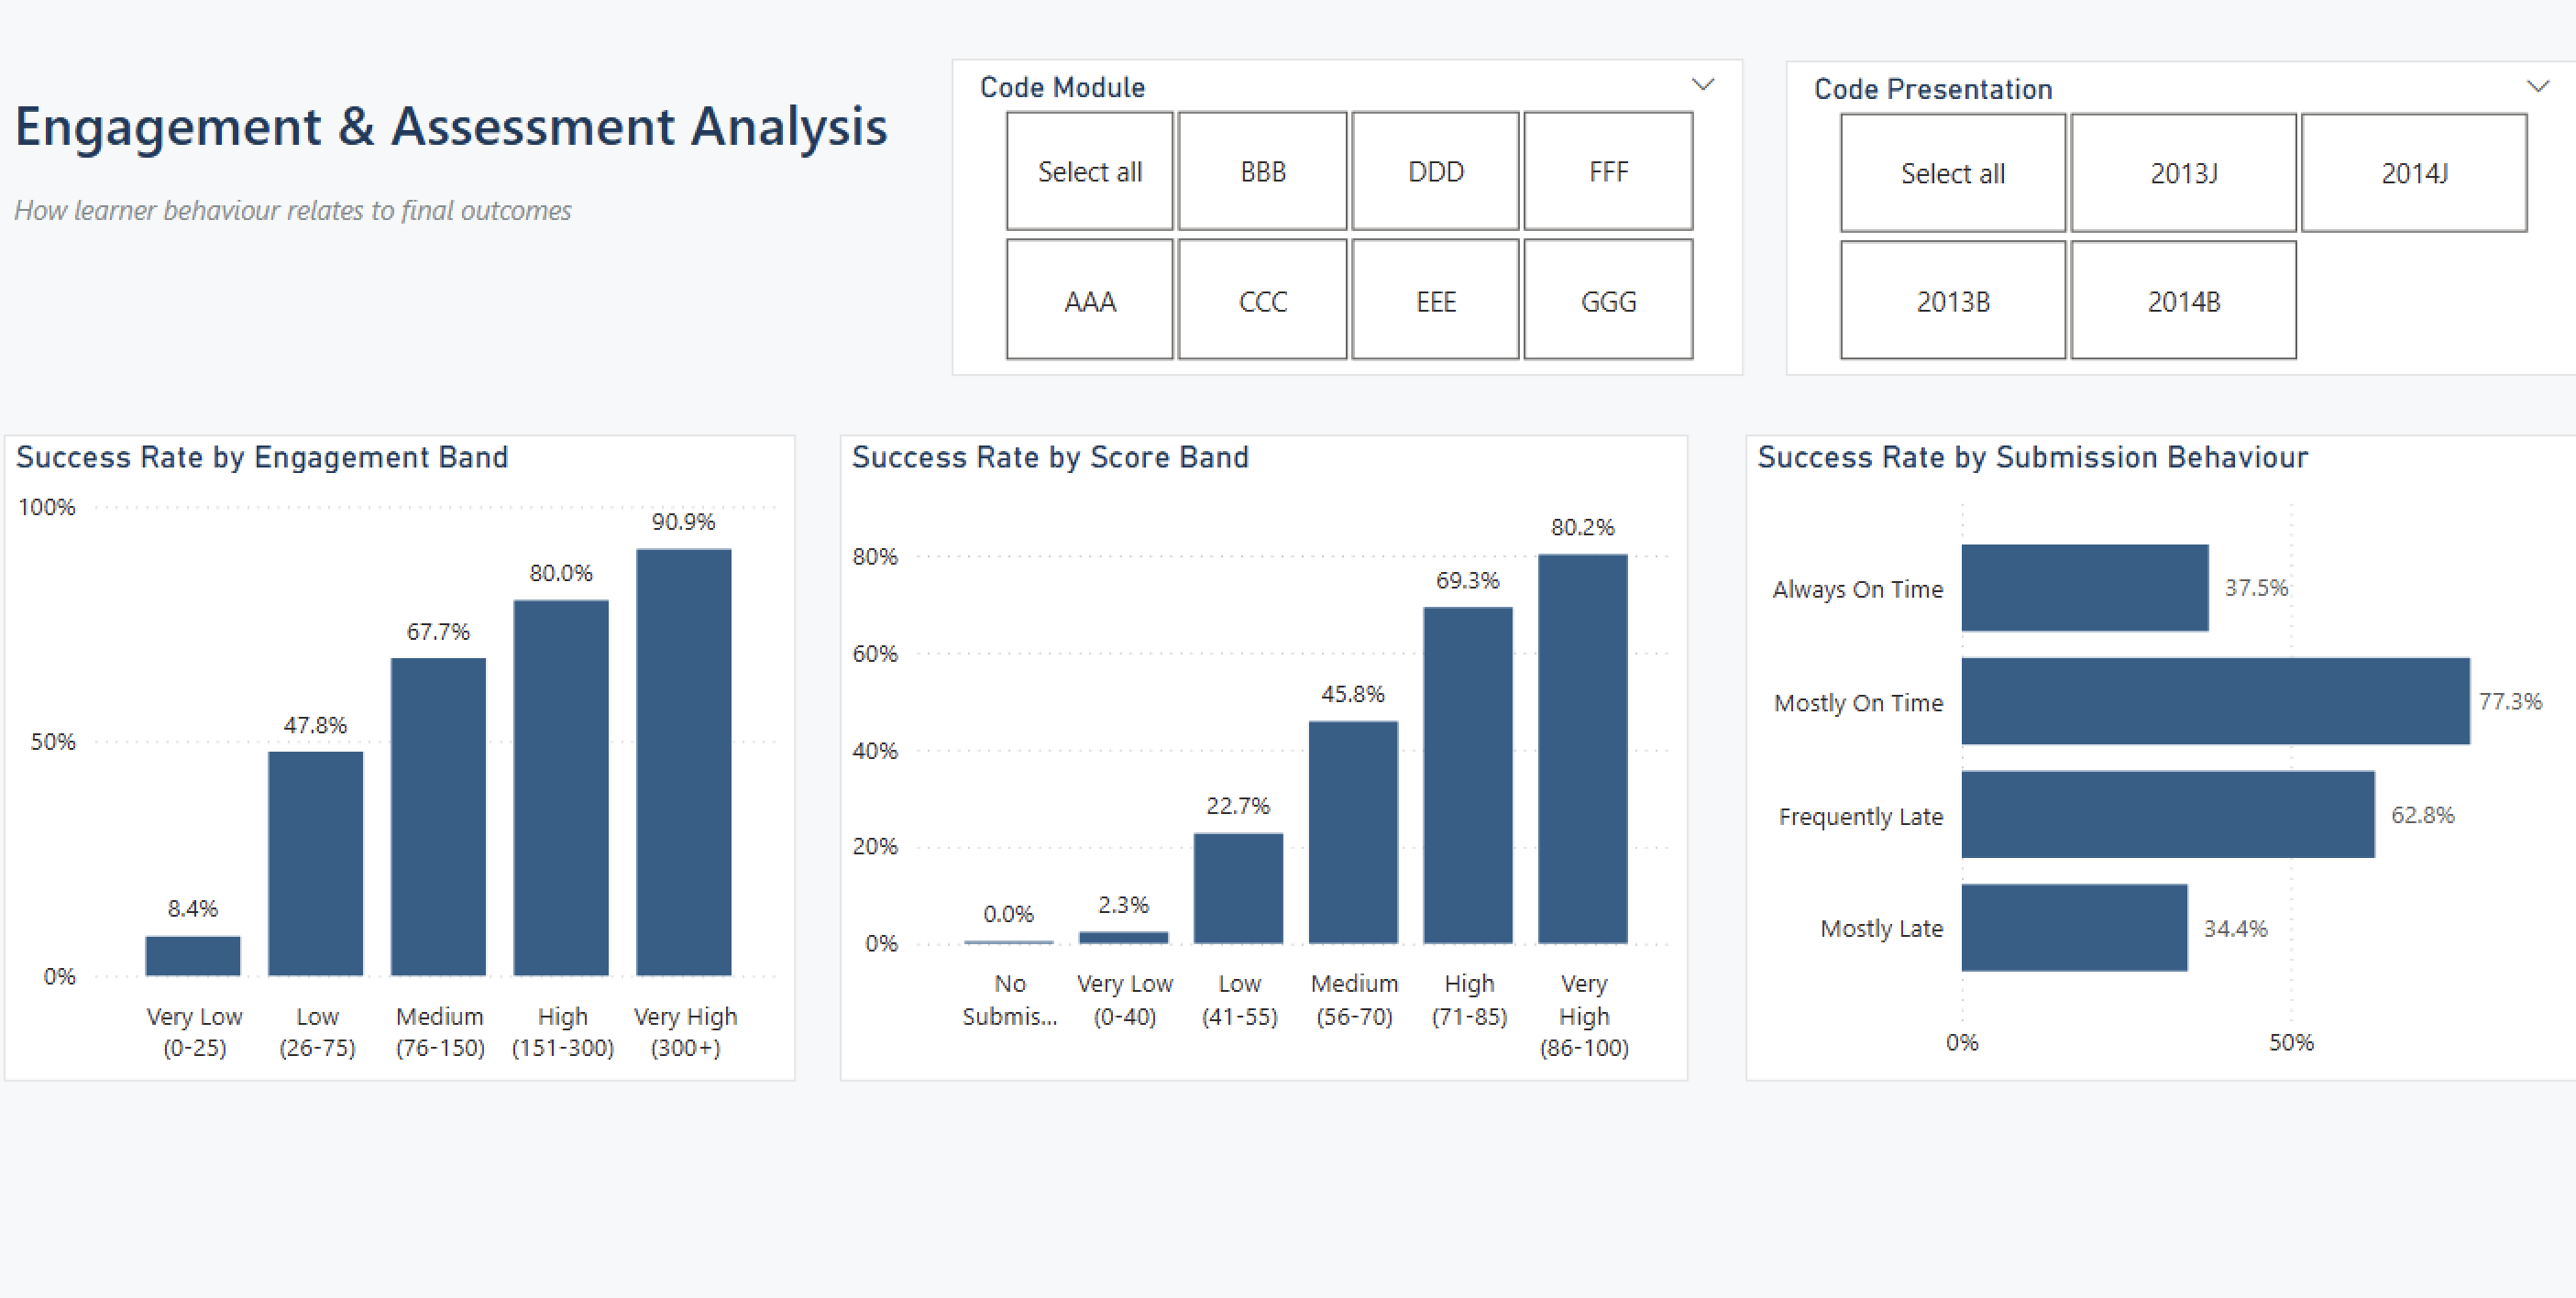

The dashboard page shown, as its layout file describes it:
{"tool":"powerbi","page":{"name":"Engagement & Assessment","canvas":[1280,720],"ordinal":1},"visuals":[{"type":"textbox","box":[6.3,56.2,467,68.9],"z":0},{"type":"textbox","box":[6.3,107.9,331.9,51.7],"z":1000},{"type":"clusteredColumnChart","title":"Success Rate by Engagement Band","fields":{"Category":["pbi_engagement_assessment.engagement_band"],"Y":["pbi_engagement_assessment.Success Rate"]},"box":[6.2,233.1,391.9,319.7],"z":2000},{"type":"clusteredColumnChart","title":"Success Rate by Score Band","fields":{"Y":["pbi_engagement_assessment.Success Rate"],"Category":["pbi_engagement_assessment.Score Band Display"]},"box":[419.8,233.1,419.8,319.7],"z":3000},{"type":"clusteredBarChart","fields":{"Category":["pbi_engagement_assessment.Submission Behaviour"],"Y":["pbi_engagement_assessment.Success Rate"]},"box":[867.4,233.1,412.6,319.7],"z":4000},{"type":"slicer","fields":{"Values":["pbi_engagement_assessment.code_module"]},"box":[475.5,47.4,391.9,156.8],"z":5000},{"type":"slicer","fields":{"Values":["pbi_engagement_assessment.code_presentation"]},"box":[887.5,48.3,392.5,155.8],"z":6000}]}

Visuals, with their boxes on the page's 1280x720 design canvas (x1, y1, x2, y2). These are canvas units, not pixel positions in the 2576x1298 screenshot, which may show the page scaled, cropped or inside an application window:
textbox: [6,56,473,125]
textbox: [6,108,338,160]
"Success Rate by Engagement Band" clusteredColumnChart: [6,233,398,553]
"Success Rate by Score Band" clusteredColumnChart: [420,233,840,553]
clusteredBarChart - pbi_engagement_assessment.Submission Behaviour x pbi_engagement_assessment.Success Rate: [867,233,1280,553]
slicer - pbi_engagement_assessment.code_module: [476,47,867,204]
slicer - pbi_engagement_assessment.code_presentation: [888,48,1280,204]
